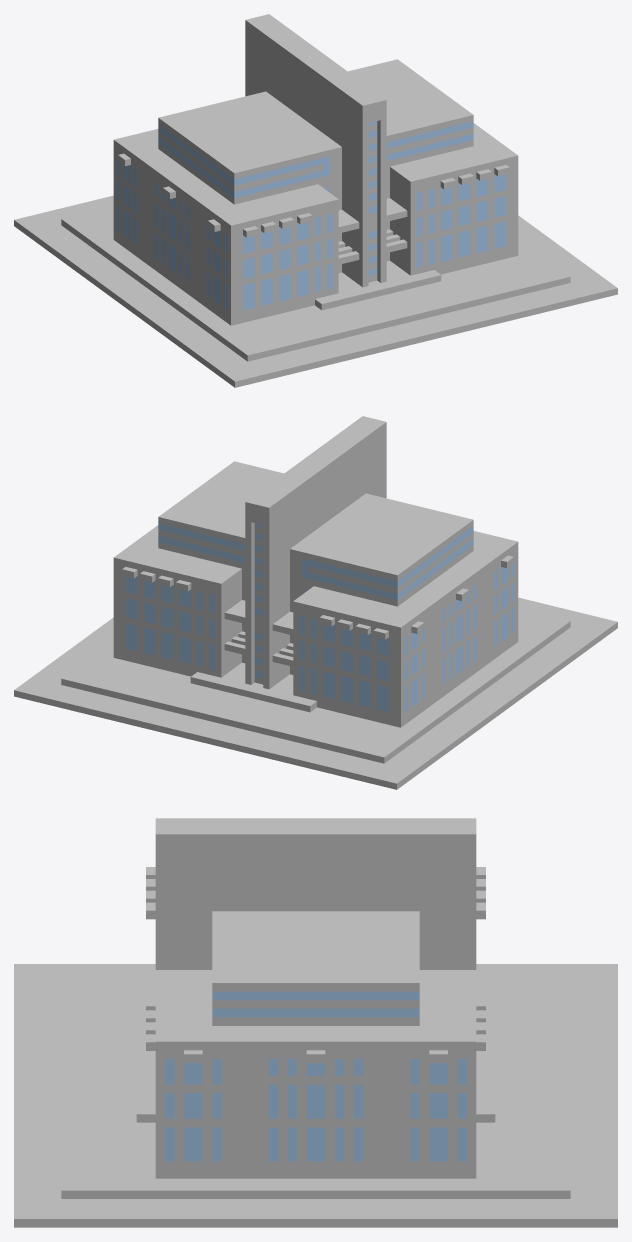
The model's file is demo3.fbx.
3 views of the same model, one above another, from view 1: azimuth 30°, elevation 25°; view 2: azimuth 150°, elevation 25°; view 3: azimuth 270°, elevation 25° (orthographic). The views are drawn at different scales.
Parts seen in each view (by area): view 1: Concept_Structure___00_0, Concept_Structure___00_1; view 2: Concept_Structure___00_0, Concept_Structure___00_1; view 3: Concept_Structure___00_0, Concept_Structure___00_1.
Boxes of the visible parts, x1=… form: Concept_Structure___00_0: x1=14, y1=14, x2=617, y2=387; Concept_Structure___00_1: x1=117, y1=121, x2=506, y2=310; Concept_Structure___00_0: x1=14, y1=416, x2=617, y2=789; Concept_Structure___00_1: x1=125, y1=523, x2=514, y2=712; Concept_Structure___00_0: x1=14, y1=818, x2=617, y2=1227; Concept_Structure___00_1: x1=165, y1=991, x2=466, y2=1161.
Bounding box in the file's own units: 3840 × 1920 × 3840.
